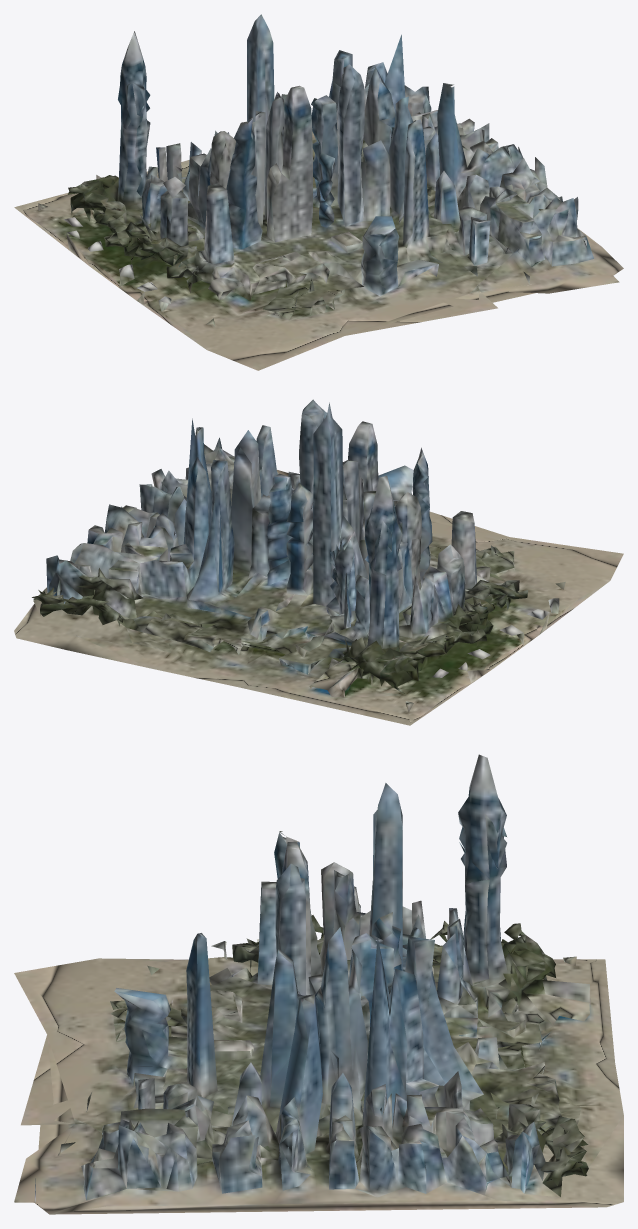
Rendered from dubai_marina_xfar.glb.
The picture shows the model from 3 angles, top to bottom: view 1: azimuth 30°, elevation 25°; view 2: azimuth 150°, elevation 25°; view 3: azimuth 270°, elevation 25°; orthographic projection. The views are drawn at different scales.
Parts seen in each view (by area): view 1: dubai_marina; view 2: dubai_marina; view 3: dubai_marina.
Boxes of the visible parts, x1,y1,x2,y2 form: dubai_marina: (14,14,623,370); dubai_marina: (14,399,623,725); dubai_marina: (14,754,623,1214).
Bounding box in the file's own units: 1.89 × 0.9824 × 1.92.
Materials: 1 (1 with a texture image).
